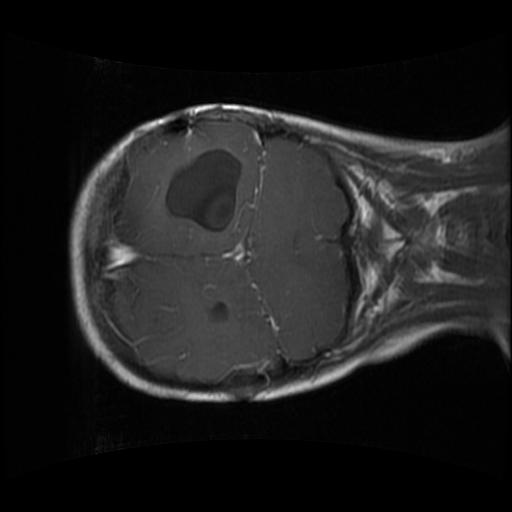glioma: (162, 145, 243, 236)
